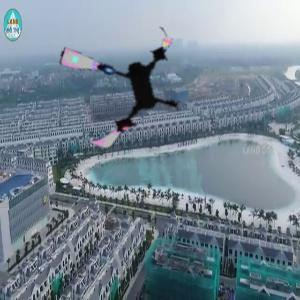drone: (51, 14, 193, 156)
